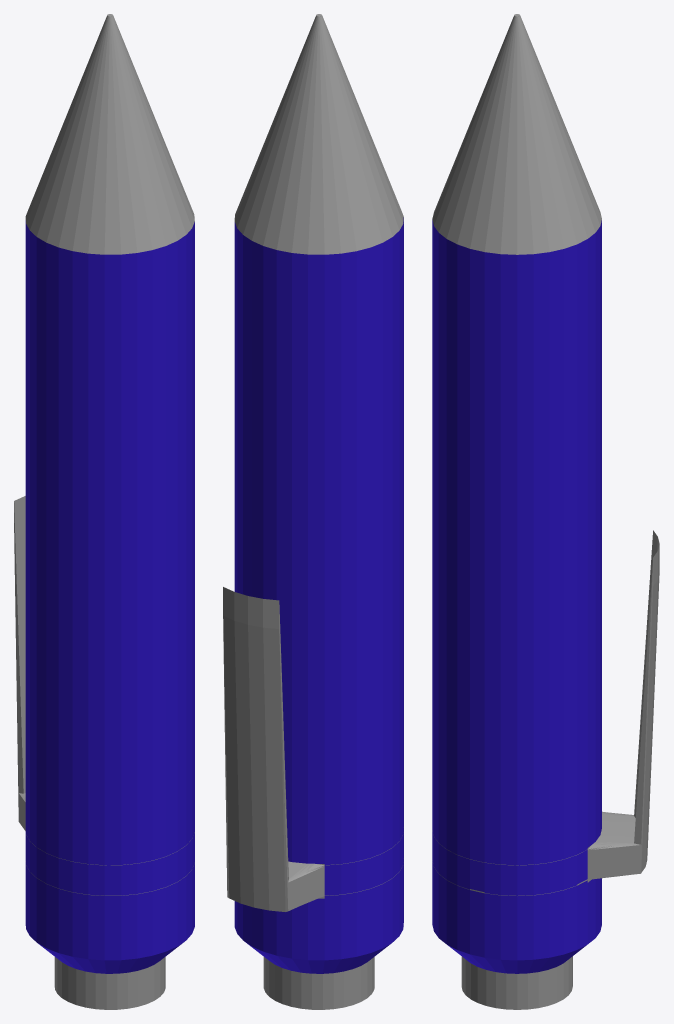
File: kugelschreiber.dae
3 views of the same model, side by side, from view 1: azimuth 30°, elevation 25°; view 2: azimuth 150°, elevation 25°; view 3: azimuth 270°, elevation 25° (orthographic).
Parts seen in each view (by area): view 1: Cylinder; view 2: Cylinder; view 3: Cylinder.
Boxes of the visible parts, x1,y1,x2,y2 form: Cylinder: (14, 14, 194, 1009); Cylinder: (223, 14, 403, 1009); Cylinder: (432, 14, 659, 1009).
Bounding box in the file's own units: 0.0993 × 0.133 × 0.6273.
